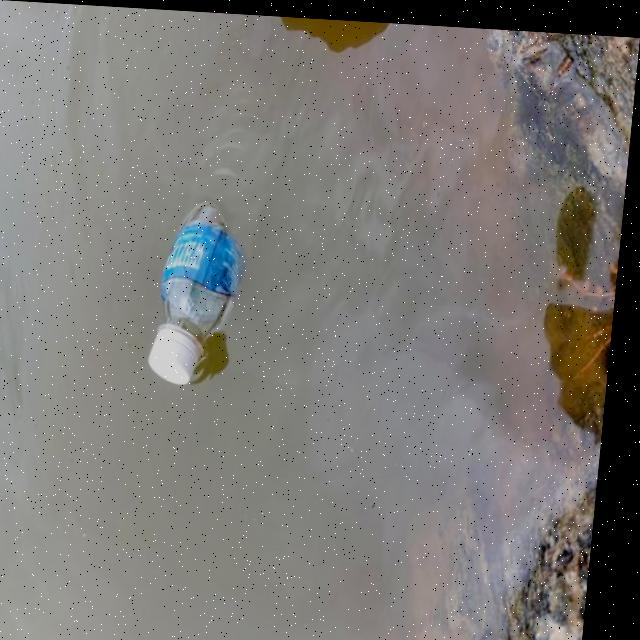waterbottle: (149, 60, 271, 386)
